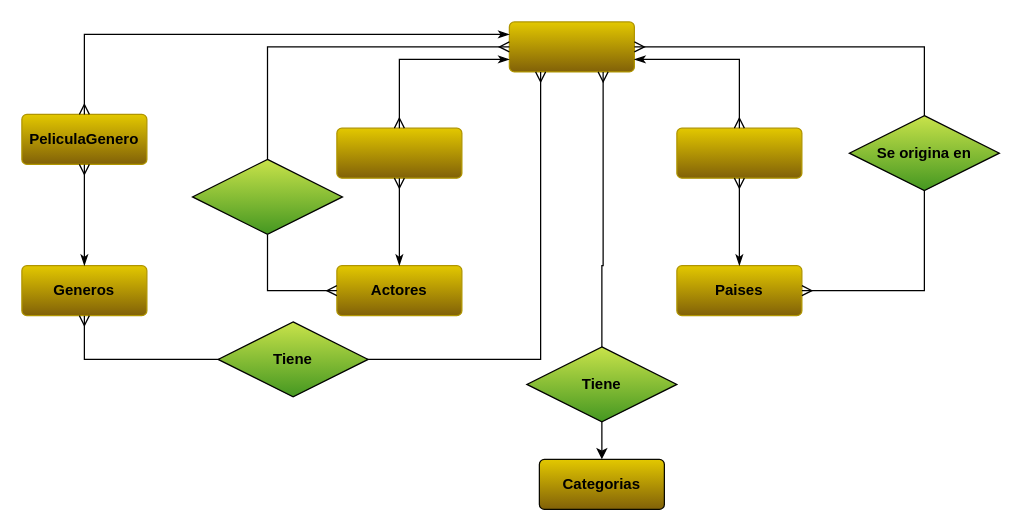
Some shapes in this 1021 by 531 pixel diagram are drawn without their labels. The shapes that lost their labels are listed below. From the top down, each one's centre as x and y in pixels, then its label:
point 571,46: Peliculas
point 399,152: PeliculaActor
point 739,152: PeliculaPais
point 266,196: Trabajan
